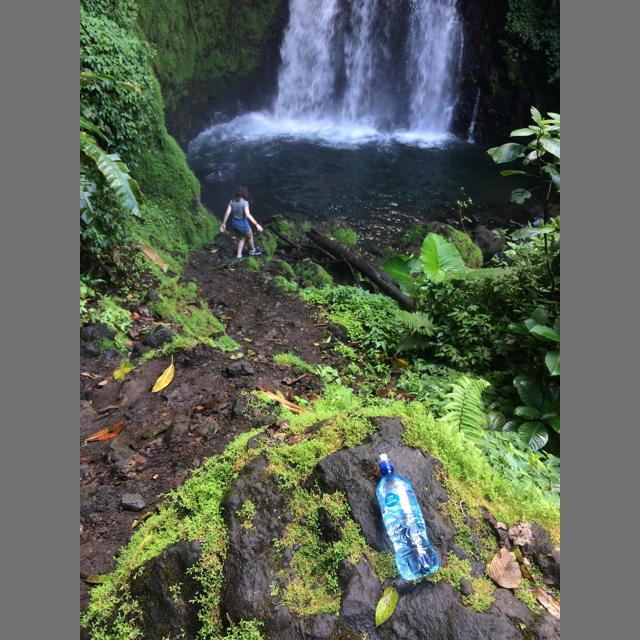litter: (376, 454, 439, 580), (379, 454, 394, 471)
